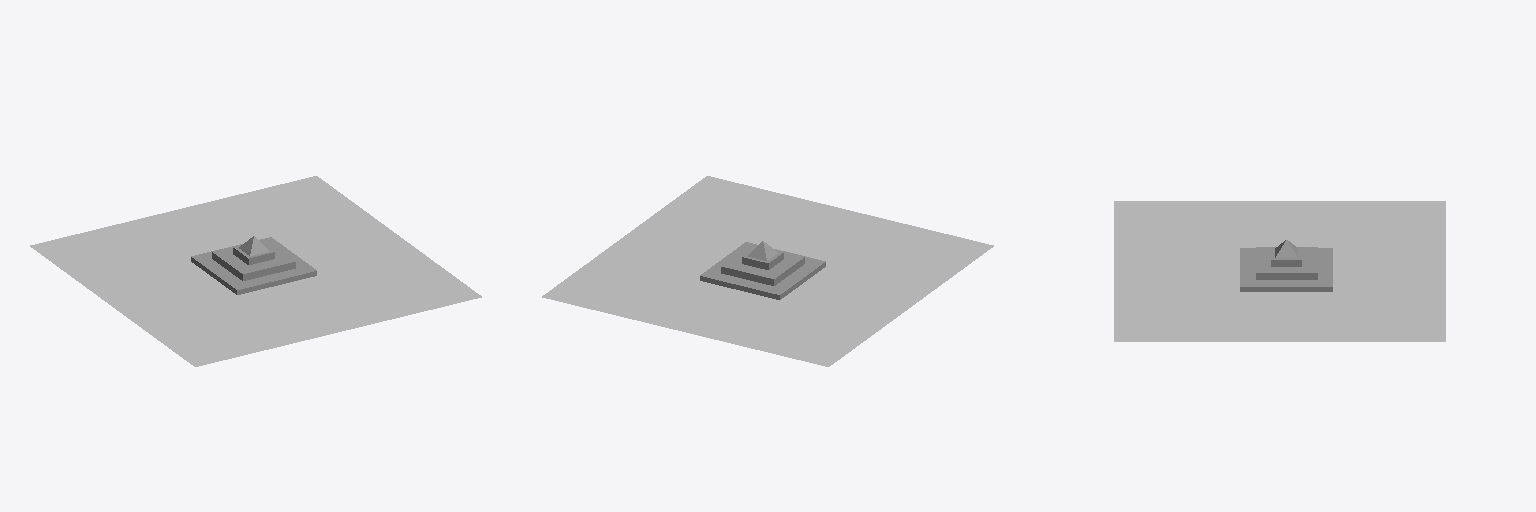
Rendered from pio.obj.
3 views of the same model, side by side, from view 1: azimuth 30°, elevation 25°; view 2: azimuth 150°, elevation 25°; view 3: azimuth 270°, elevation 25° (orthographic).
Visible parts, largest first — view 1: Grid, Cube.008; view 2: Grid, Cube.008; view 3: Grid, Cube.008.
Boxes of the visible parts, box(x1,y1,x2,y2) form: Grid: box(30, 176, 481, 366); Cube.008: box(191, 236, 316, 294); Grid: box(542, 176, 993, 366); Cube.008: box(700, 241, 825, 299); Grid: box(1114, 201, 1445, 341); Cube.008: box(1240, 240, 1332, 291).
Bounding box in the file's own units: 2.19 × 0.2549 × 2.19.